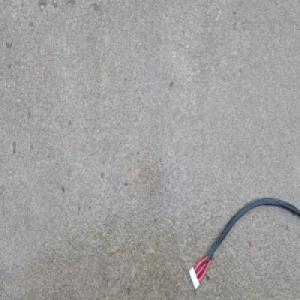Wire: (186, 196, 300, 290)
